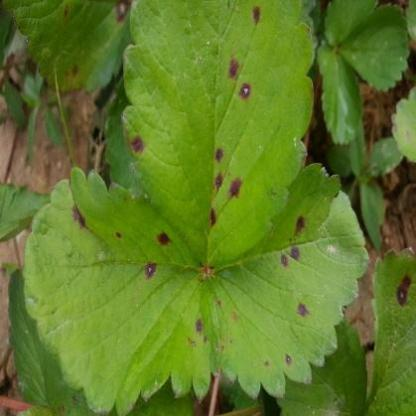Strawberry_Leaf_Spot: (119, 0, 314, 268), (21, 167, 221, 415), (206, 160, 371, 402), (0, 0, 137, 96), (364, 248, 415, 415), (390, 86, 415, 163)
